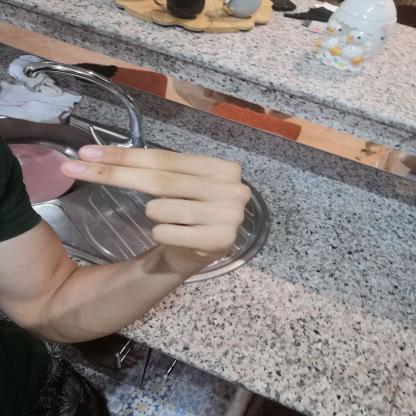AYN: (45, 131, 261, 270)
